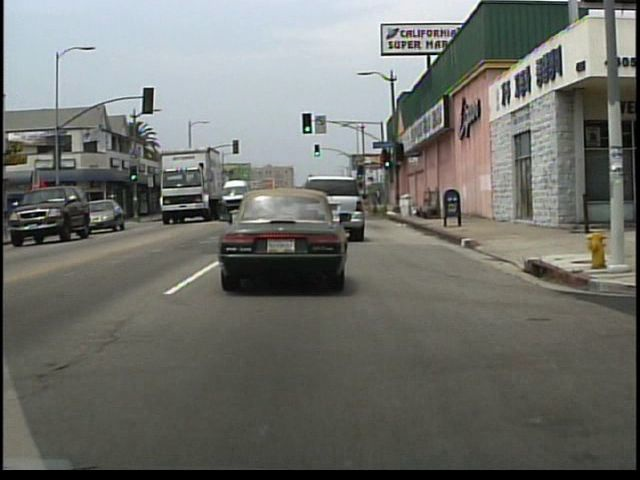person: (64, 201, 76, 229), (376, 187, 385, 207)
